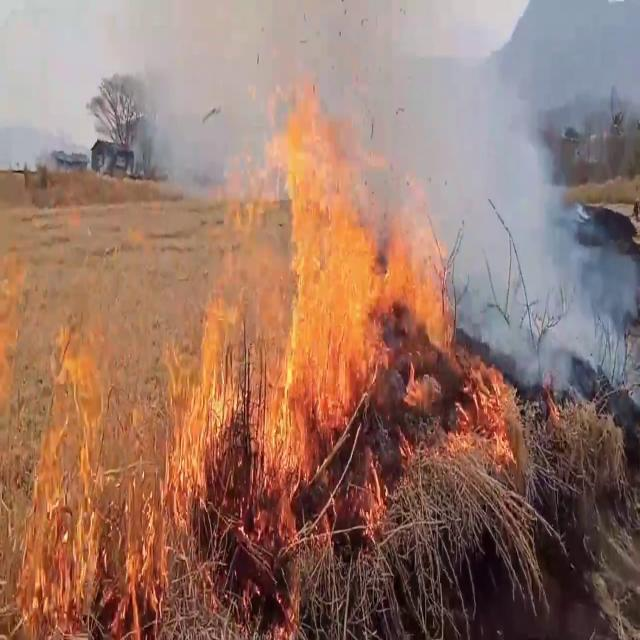Fire: (163, 68, 517, 520), (0, 167, 226, 640)
Smoke: (373, 1, 637, 378)
